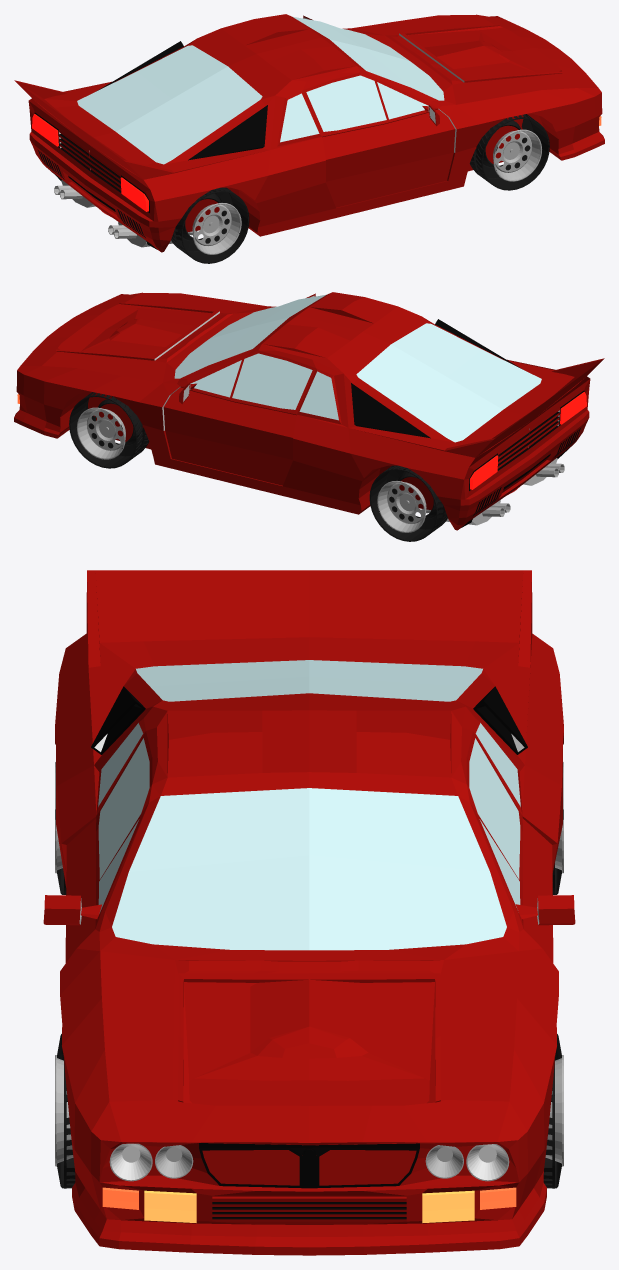
Rendered from Lancia 037.fbx.
3 renders of one model, top to bottom at view 1: azimuth 30°, elevation 25°; view 2: azimuth 150°, elevation 25°; view 3: azimuth 270°, elevation 25°, orthographic. The views are drawn at different scales.
Parts seen in each view (by area): view 1: Car, Tire; view 2: Car, Tire; view 3: Car, Tire.
Boxes of the visible parts, x1,y1,x2,y2 form: Car: (14,14,604,252); Tire: (171,114,549,263); Car: (14,292,604,530); Tire: (69,392,447,541); Car: (43,570,575,1255); Tire: (55,762,563,1188).
Bounding box in the file's own units: 332 × 92.85 × 155.
